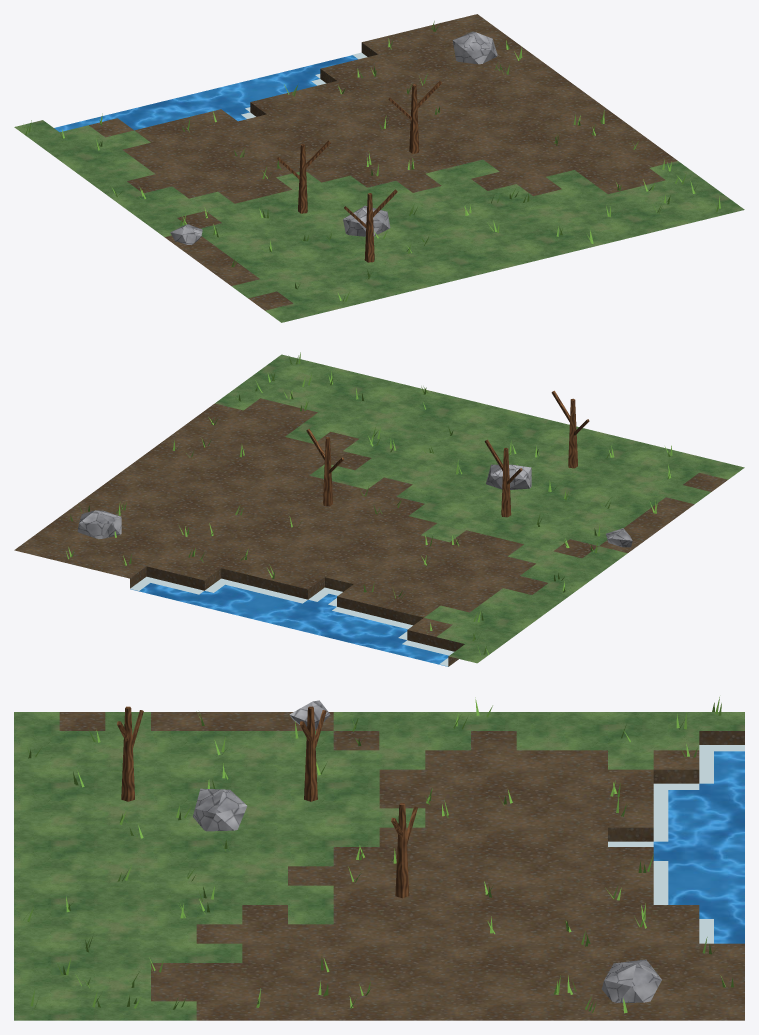
The model's file is chunk_1_15.glb.
The picture shows the model from 3 angles, top to bottom: view 1: azimuth 30°, elevation 25°; view 2: azimuth 150°, elevation 25°; view 3: azimuth 270°, elevation 25°; orthographic projection. The views are drawn at different scales.
Visible parts, largest first — view 1: chunk_1_15; view 2: chunk_1_15; view 3: chunk_1_15.
Part boxes in pixels (x1=…): chunk_1_15: x1=14, y1=14, x2=744, y2=322; chunk_1_15: x1=14, y1=352, x2=744, y2=666; chunk_1_15: x1=14, y1=697, x2=744, y2=1020.
Bounding box in the file's own units: 16.01 × 2.72 × 16.
Materials: 7 (5 with a texture image).
